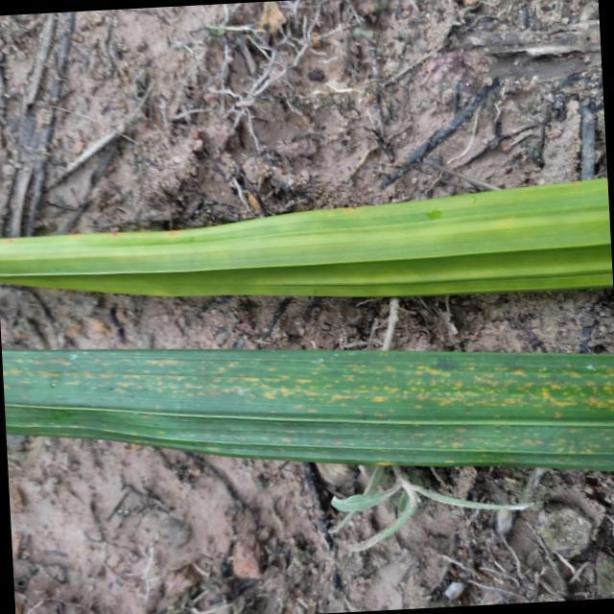nitrogen: (0, 342, 614, 470), (0, 174, 614, 301)
